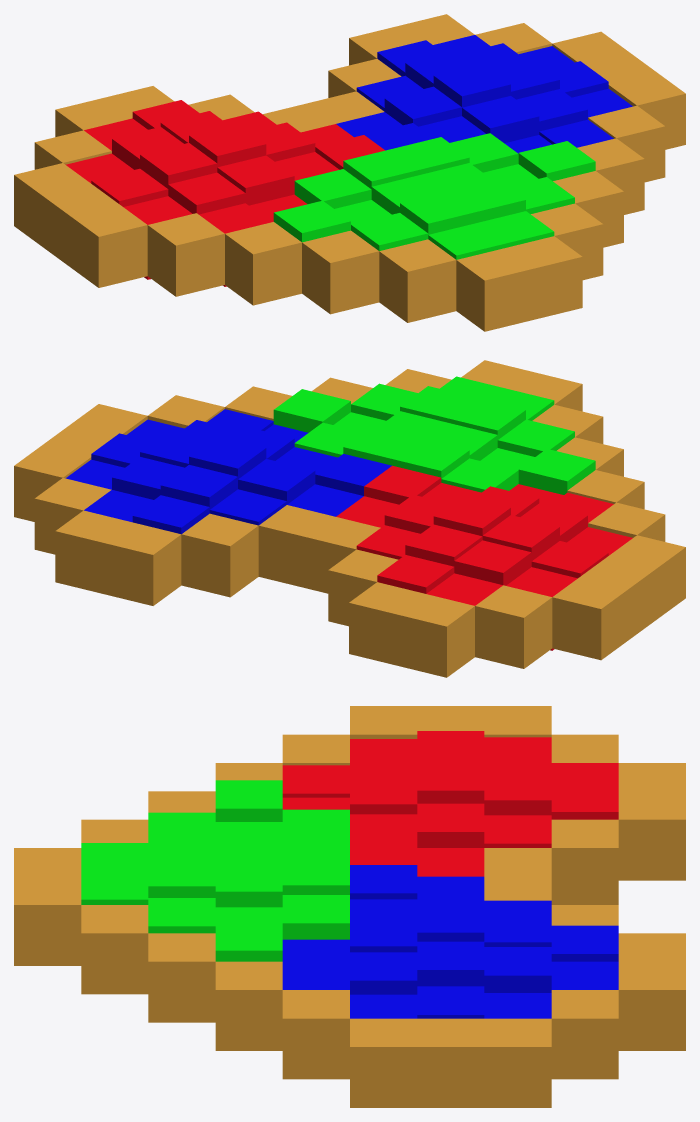
Rendered from Fragments.fbx.
3 views of the same model, one above another, from view 1: azimuth 30°, elevation 25°; view 2: azimuth 150°, elevation 25°; view 3: azimuth 270°, elevation 25° (orthographic). The views are drawn at different scales.
Visible parts, largest first — view 1: Fragment_L.001, Fragment_B.001, Fragment_R.002; view 2: Fragment_L.001, Fragment_R.002, Fragment_B.001; view 3: Fragment_R.002, Fragment_L.001, Fragment_B.001.
Part boxes in pixels (x1,y1,x2,y2): Fragment_L.001: (14,86,385,305); Fragment_B.001: (273,133,623,331); Fragment_R.002: (308,14,685,214); Fragment_L.001: (307,465,685,677); Fragment_R.002: (14,386,391,605); Fragment_B.001: (273,360,623,494); Fragment_R.002: (215,865,685,1107); Fragment_L.001: (215,706,685,904); Fragment_B.001: (14,780,349,1022).
Bounding box in the file's own units: 0.7963 × 0.1048 × 0.6635.
